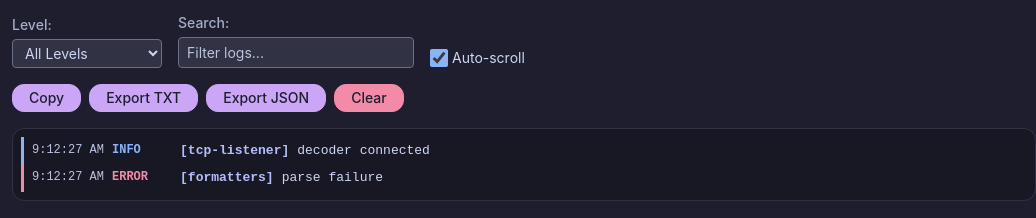
Test: LogsViewer › NIT-10: search filtering › filters by a substring of the message text, case-insensitively
This screenshot has width=1036, height=218.
In the field labelled "Search:": (296, 52) [178,37,414,68], type "DECODER"
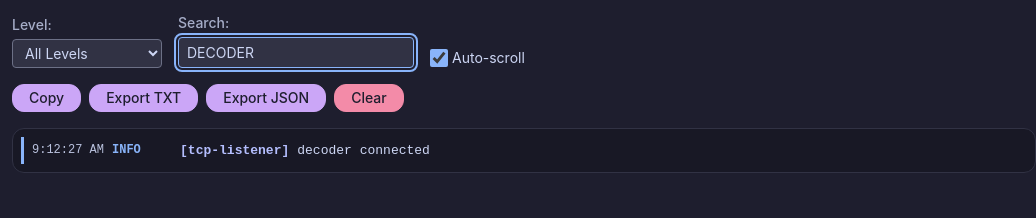
Check: the element with class "log-entry" shows "decoder connected", box [297,142,430,158]
Check: the number of elements with class "log-entry" is 1, box [21,136,1027,164]
